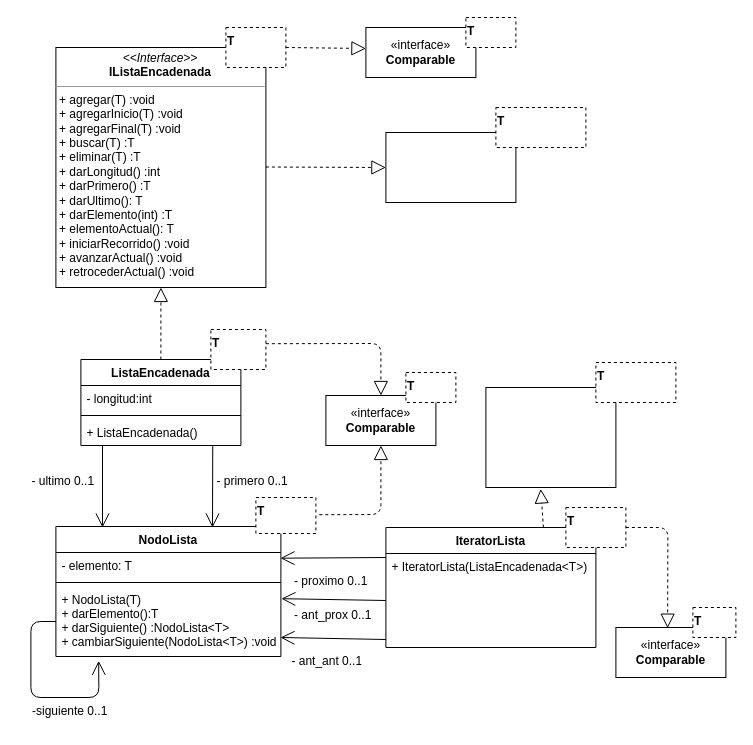
Image size: 753x745. Some labels were removed from this diagram. Here are the shapes that lost their labels. From the top down, the box of each, then its label:
(385, 132, 516, 202): <<Interface>> Iterable + iterator:Iterator<T>
(485, 386, 616, 488): <<Interface>> Iterator + hasNext() :boolean + next :T + remove() :void
